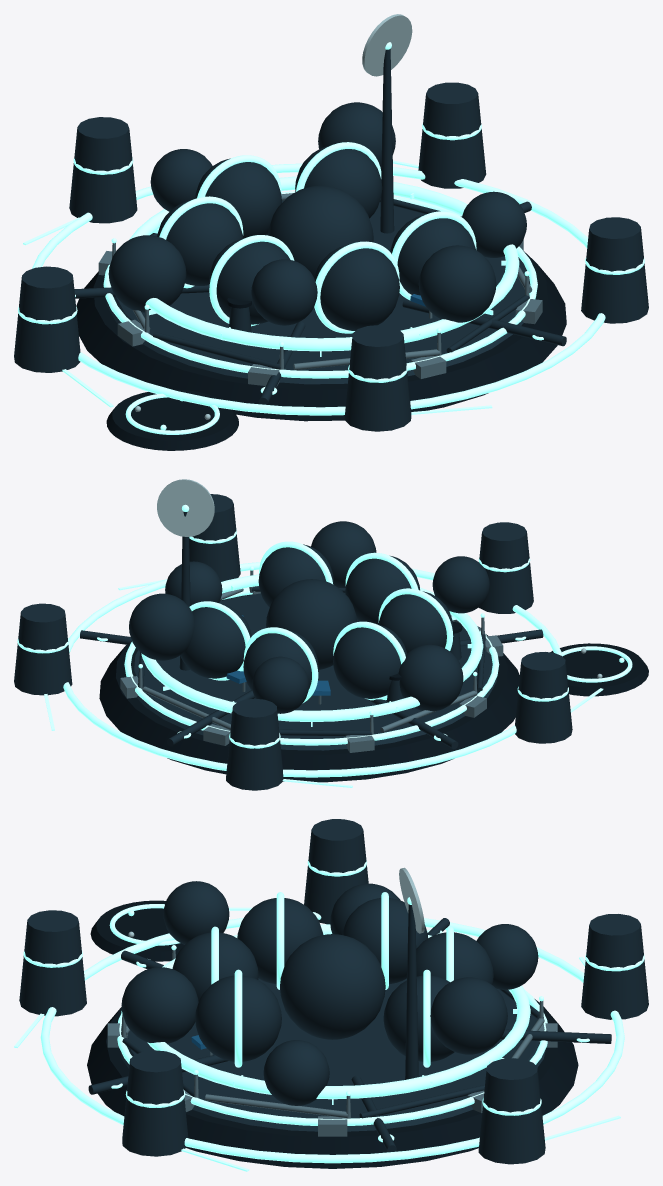
File: deuteriumTank-stage3.glb
3 views of the same model, one above another, from view 1: azimuth 30°, elevation 25°; view 2: azimuth 150°, elevation 25°; view 3: azimuth 270°, elevation 25° (orthographic). The views are drawn at different scales.
Parts seen in each view (by area): view 1: fuel-tank (×7), armored-foundation, upper-deck, district-grid-2, logistics-ring, refinery-annex-0, refinery-annex-2, refinery-annex-4, refinery-annex-1, refinery-annex-3, detail (×6), landing-pad (+16 smaller); view 2: fuel-tank (×7), armored-foundation, upper-deck, district-grid-2, refinery-annex-1, refinery-annex-2, refinery-annex-3, logistics-ring, detail (×6), refinery-annex-0, mega-fuel-cell-5, mega-fuel-cell-3 (+18 smaller); view 3: fuel-tank (×7), upper-deck, armored-foundation, district-grid-2, refinery-annex-3, refinery-annex-2, refinery-annex-0, refinery-annex-4, logistics-ring, mega-fuel-cell-5, mega-fuel-cell-1, refinery-annex-1 (+16 smaller).
Part boxes in pixels (x1,y1,x2,y2): fuel-tank (×7): (157,145,475,330); armored-foundation: (76,233,566,421); upper-deck: (106,200,535,384); district-grid-2: (32,163,605,415); logistics-ring: (129,176,519,351); refinery-annex-0: (344,325,411,431); refinery-annex-2: (69,117,137,223); refinery-annex-4: (581,217,648,323); refinery-annex-1: (14,266,80,372); refinery-annex-3: (418,82,486,188); detail (×6): (159,142,476,333); landing-pad: (106,389,238,450); fuel-tank (×7): (180,544,453,698); armored-foundation: (99,595,519,782); upper-deck: (126,592,496,750); district-grid-2: (63,562,562,777); refinery-annex-1: (515,652,572,743); refinery-annex-2: (226,698,283,790); refinery-annex-3: (14,603,72,695); logistics-ring: (141,574,483,721); detail (×6): (189,541,453,703); refinery-annex-0: (478,522,533,613); mega-fuel-cell-5: (129,593,194,660); mega-fuel-cell-3: (398,644,463,711); fuel-tank (×7): (172,898,493,1061); upper-deck: (119,978,546,1131); armored-foundation: (87,999,578,1168); district-grid-2: (40,912,624,1163); refinery-annex-3: (478,1058,545,1164); refinery-annex-2: (581,914,648,1019); refinery-annex-0: (19,910,86,1016); refinery-annex-4: (122,1050,188,1156); logistics-ring: (147,924,530,1099); mega-fuel-cell-5: (430,977,507,1054); mega-fuel-cell-1: (121,967,198,1043); refinery-annex-1: (304,819,368,924).
Bounding box in the file's own units: 14.21 × 5.93 × 13.84.
